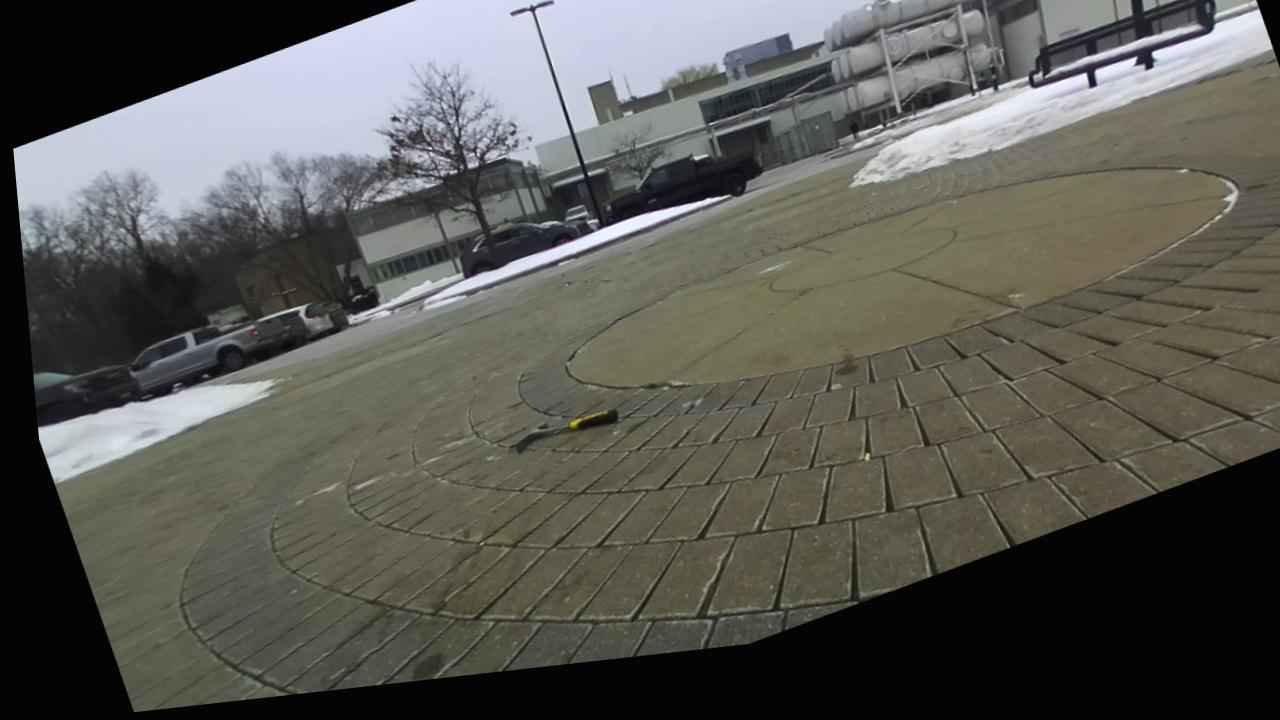pick: (513, 409, 619, 452)
